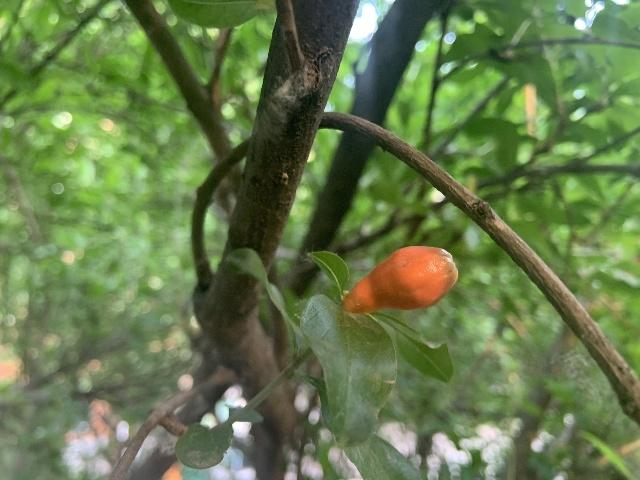bud: (344, 245, 458, 313)
